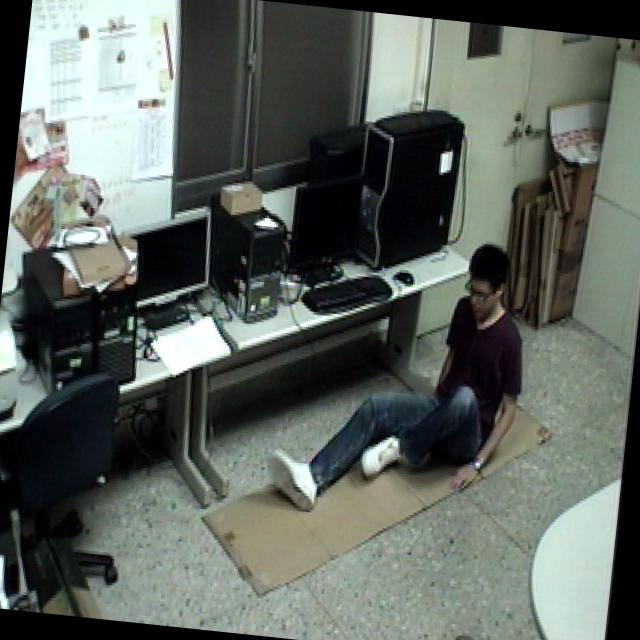sit: (261, 215, 540, 540)
